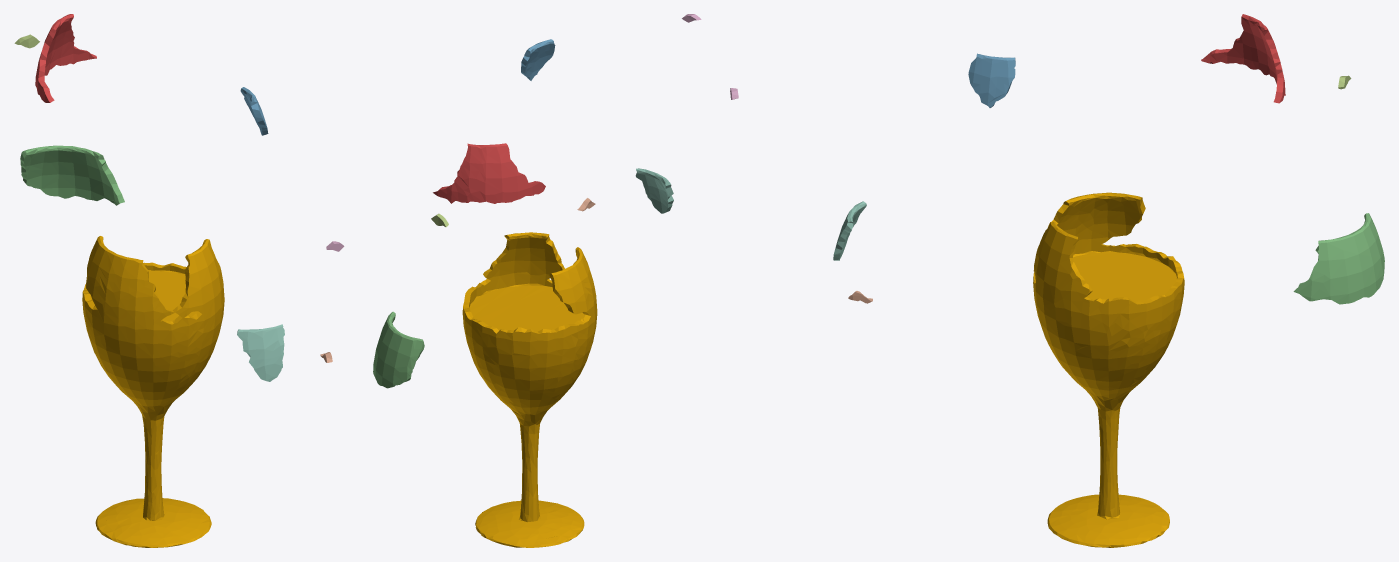
File: fractured_29_8pcs_transformed.glb
3 views of the same model, side by side, from view 1: azimuth 30°, elevation 25°; view 2: azimuth 150°, elevation 25°; view 3: azimuth 270°, elevation 25° (orthographic). The views are drawn at different scales.
Parts seen in each view (by area): view 1: piece_0.obj, piece_3.obj, piece_1.obj, piece_4.obj, piece_2.obj; view 2: piece_0.obj, piece_1.obj, piece_3.obj, piece_4.obj, piece_2.obj; view 3: piece_0.obj, piece_3.obj, piece_1.obj, piece_2.obj.
Part boxes in pixels (x1=…): piece_0.obj: x1=82, y1=236, x2=224, y2=547; piece_3.obj: x1=20, y1=145, x2=124, y2=205; piece_1.obj: x1=35, y1=14, x2=96, y2=102; piece_4.obj: x1=237, y1=324, x2=284, y2=381; piece_2.obj: x1=240, y1=87, x2=268, y2=135; piece_0.obj: x1=462, y1=232, x2=597, y2=547; piece_1.obj: x1=433, y1=143, x2=545, y2=203; piece_3.obj: x1=373, y1=311, x2=424, y2=388; piece_4.obj: x1=635, y1=168, x2=673, y2=213; piece_2.obj: x1=521, y1=39, x2=555, y2=80; piece_0.obj: x1=1033, y1=192, x2=1184, y2=547; piece_3.obj: x1=1293, y1=213, x2=1384, y2=304; piece_1.obj: x1=1201, y1=14, x2=1285, y2=103; piece_2.obj: x1=968, y1=53, x2=1015, y2=107.
Size of the model in its own units: 0.4496 by 1.6 by 1.94.
